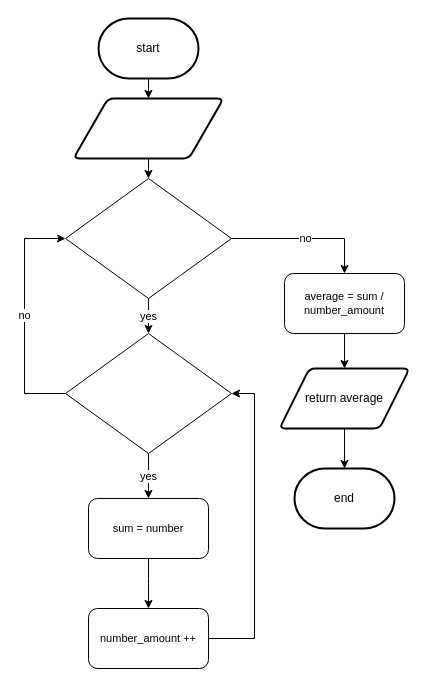
This 428x686 diagram has some shape labels left out. The shapes that lost their labels are listed below. From the top down, each one's box as (x1, y1, x2, y2) in pixels, then its label:
(72, 97, 224, 159): get number_array
(64, 178, 232, 298): for counter_array in range number_array
(64, 332, 232, 454): for number in range number_array
